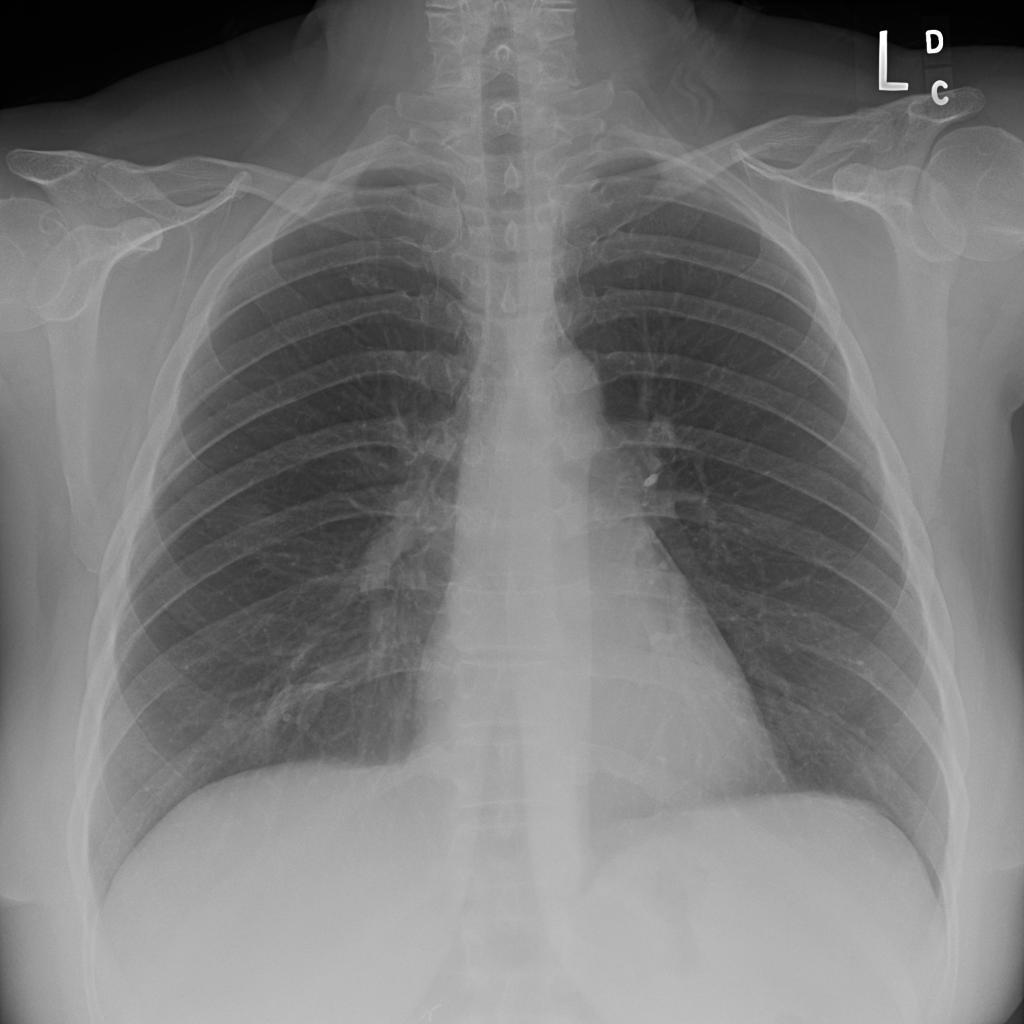Nodule: (113, 245, 148, 281)
